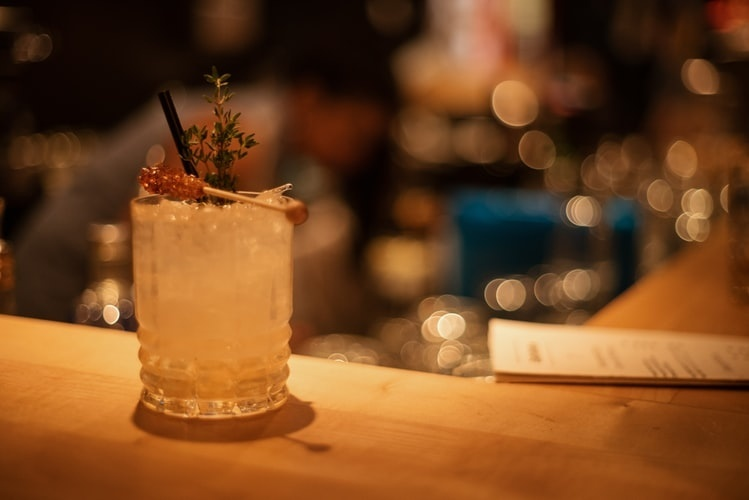whiskey: (130, 194, 305, 416)
